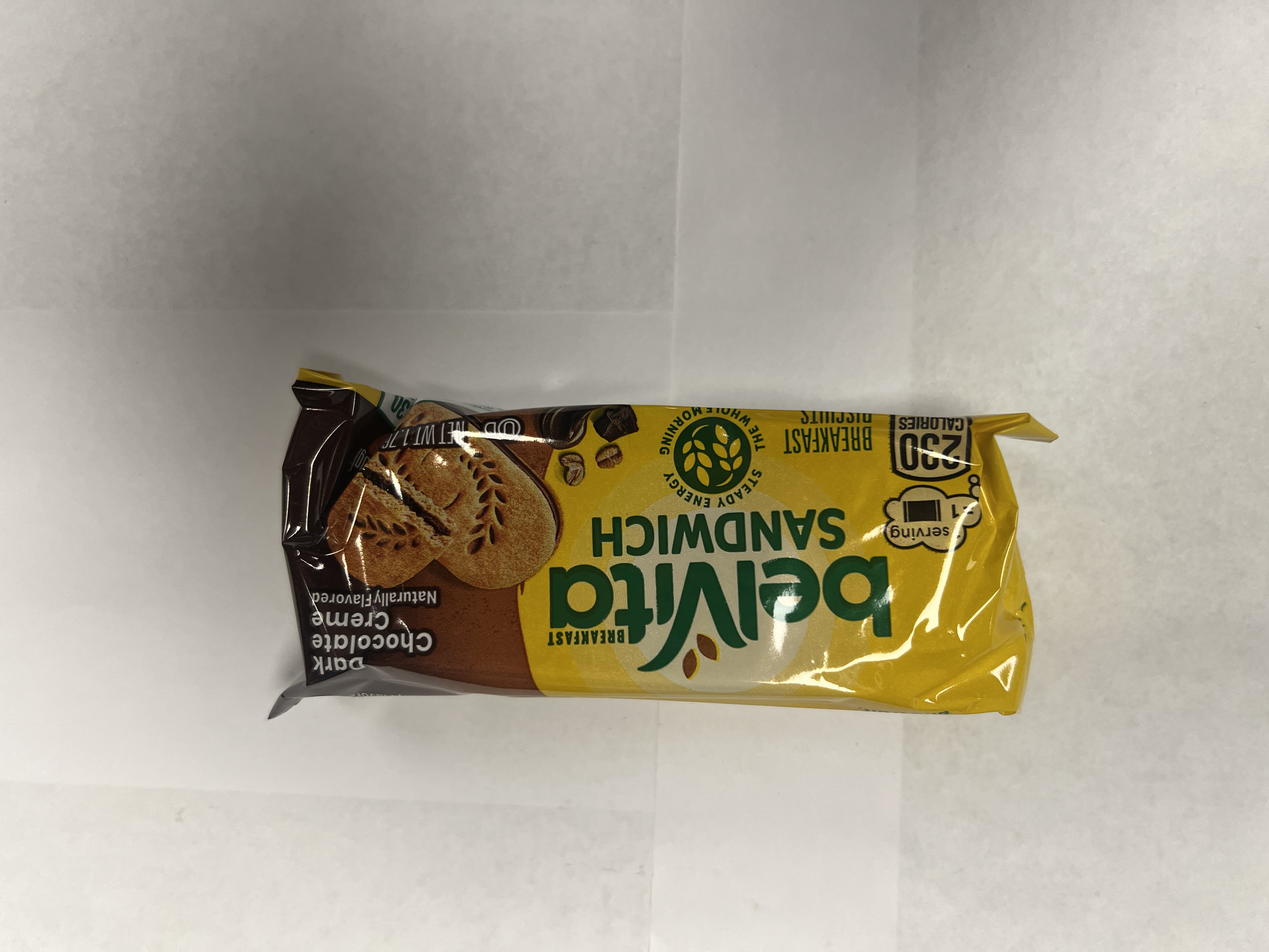packaged: (272, 366, 1051, 723)
